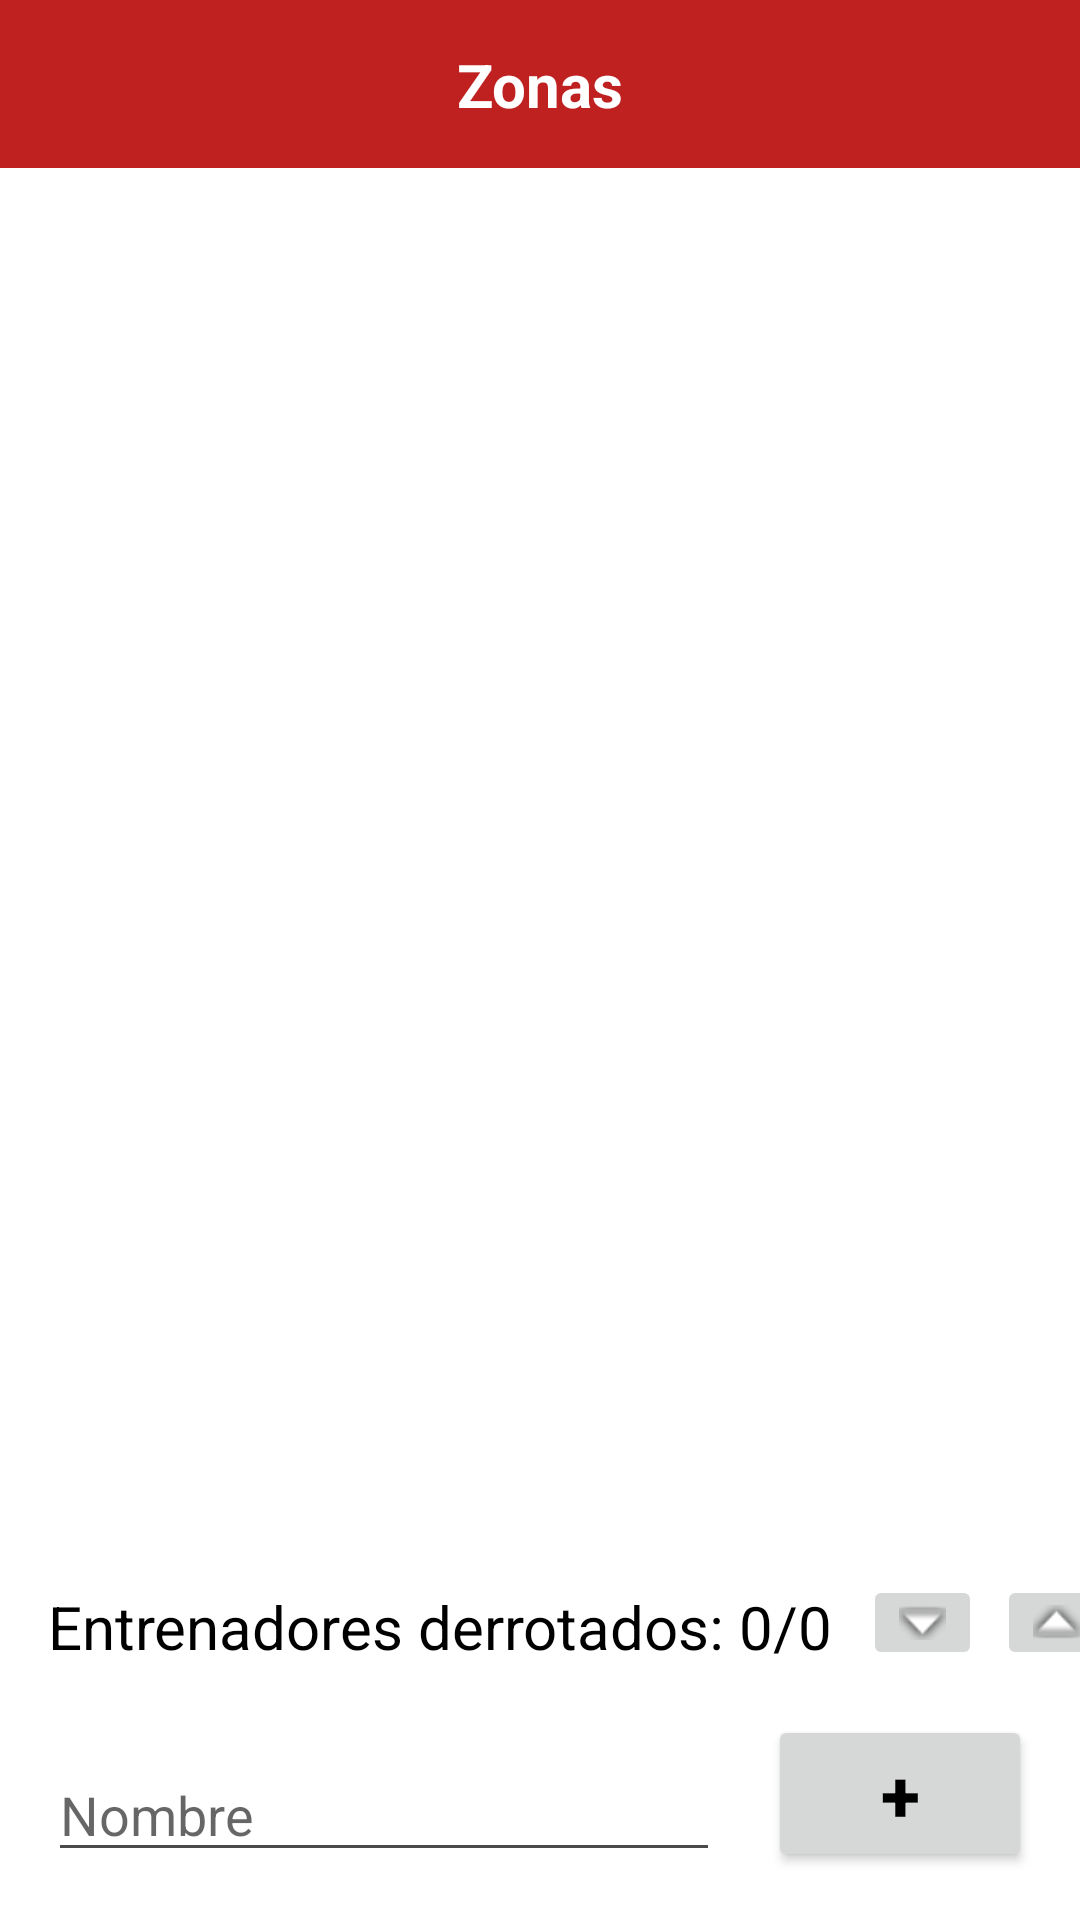

Named icons in this screenshot (1080w x 1920h) and their centers, [x,y]:
arrow down float: [922,1622]
